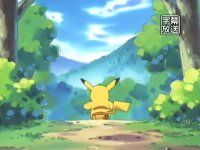pikachu: (76, 76, 129, 122)
